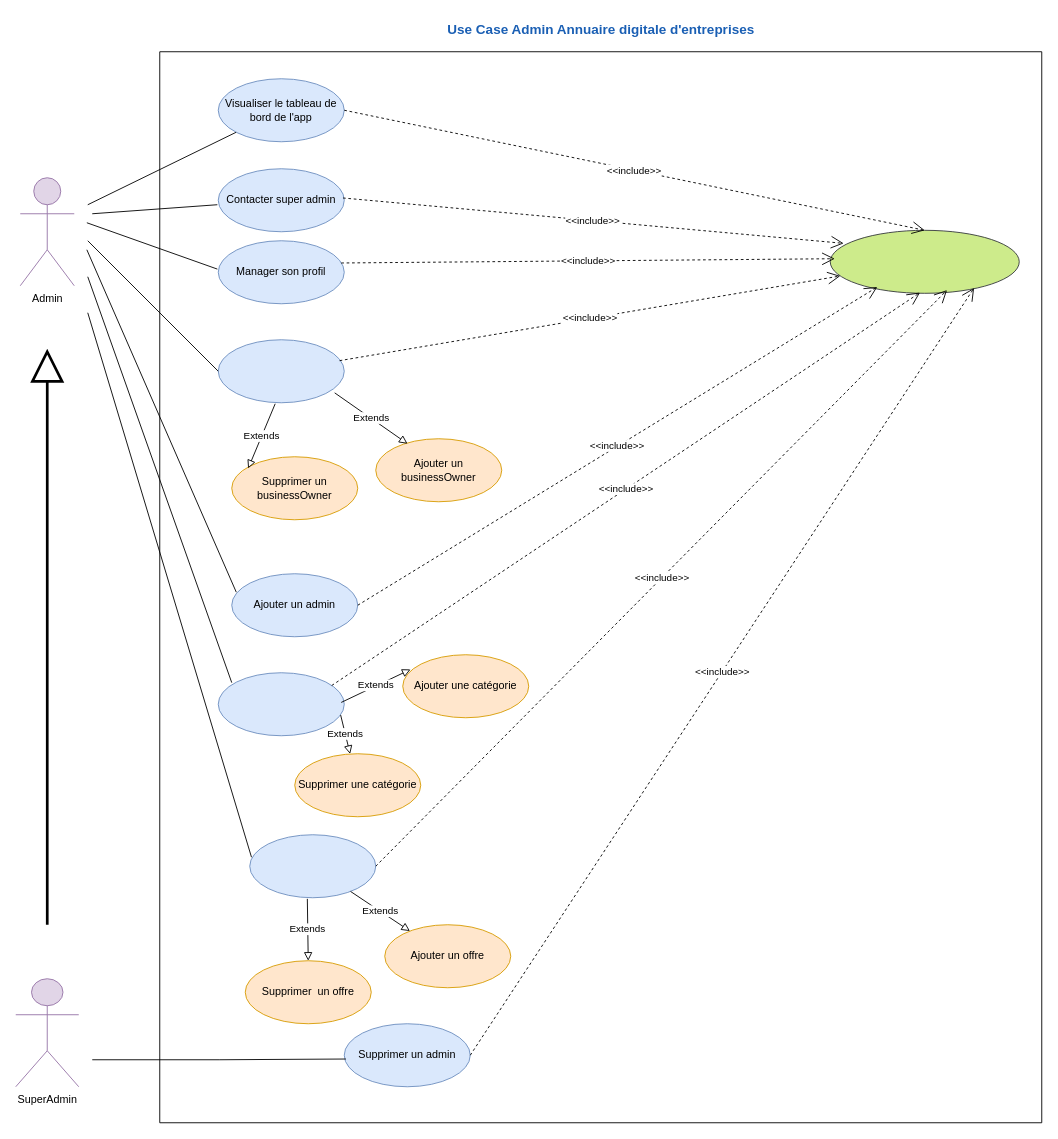
This 1058x1139 diagram has some shape labels left out. The shapes that lost their labels are listed below. From the top down, each one's box as (x1, y1, x2, y2) in pixels, then its label:
(829, 229, 1019, 293): S'authentifier
(217, 339, 344, 403): Gérer un businessOwner
(217, 672, 344, 736): Gérer une catégorie
(249, 834, 376, 898): Gérer un offre
